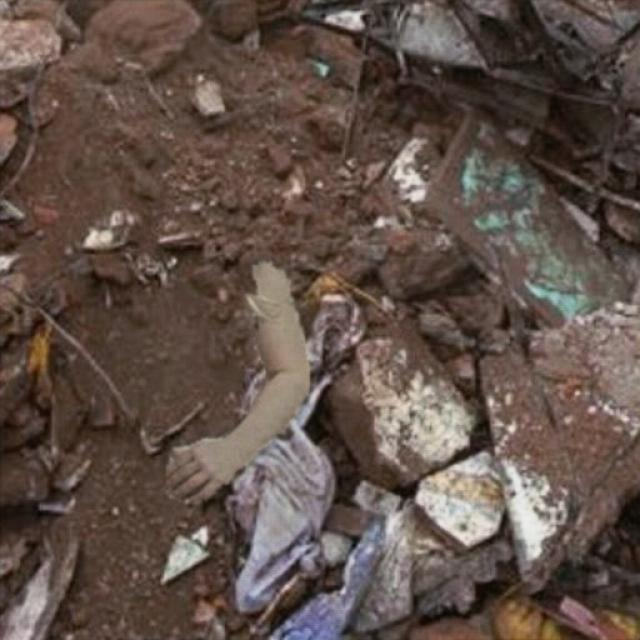Person in Rubble: (166, 261, 309, 505)
